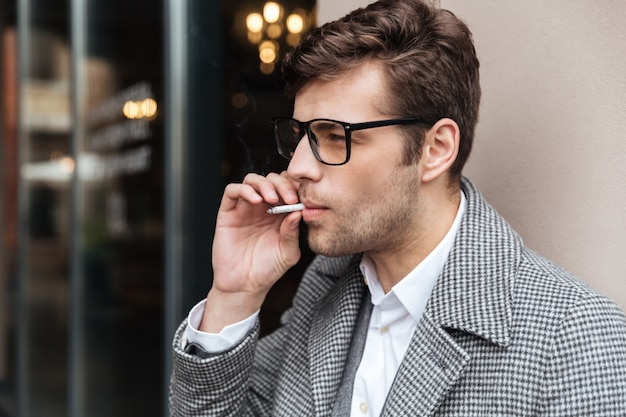cigarette: (266, 202, 307, 216)
